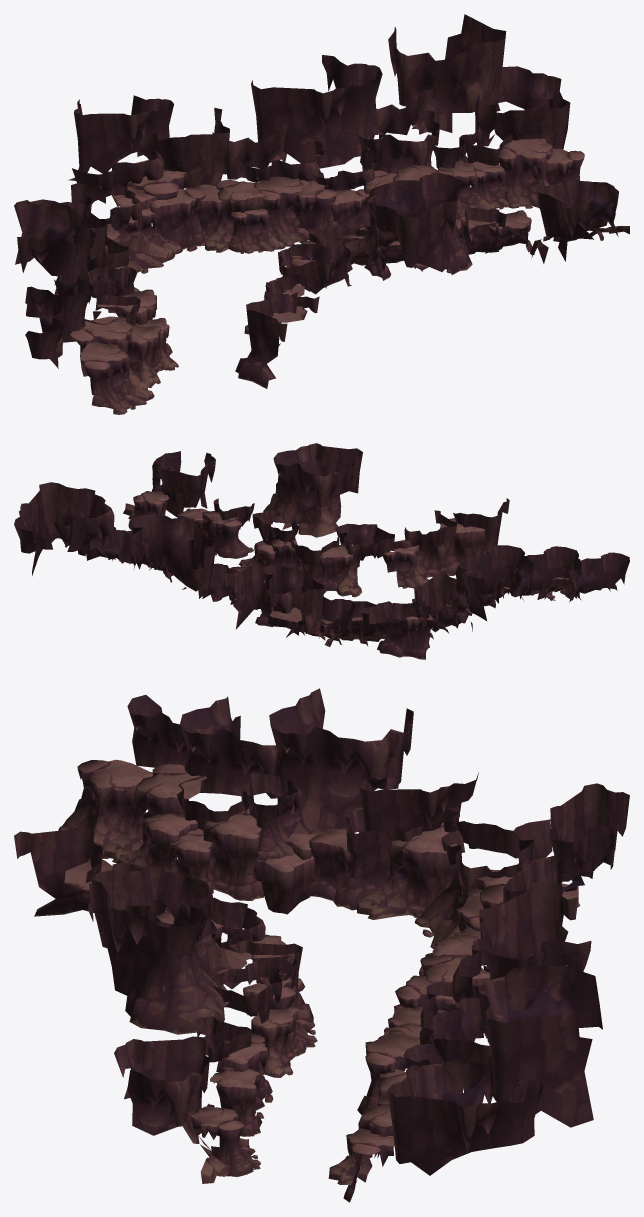
Rendered from area7_shiqiang_02.FBX.
The picture shows the model from 3 angles, top to bottom: view 1: azimuth 30°, elevation 25°; view 2: azimuth 150°, elevation 25°; view 3: azimuth 270°, elevation 25°; orthographic projection. The views are drawn at different scales.
Parts seen in each view (by area): view 1: area7_shiqiang_02; view 2: area7_shiqiang_02; view 3: area7_shiqiang_02.
Boxes of the visible parts, left/top/right/bottom form: area7_shiqiang_02: left=14, top=14, right=629, bottom=414; area7_shiqiang_02: left=14, top=443, right=629, bottom=659; area7_shiqiang_02: left=14, top=688, right=629, bottom=1202.
Bounding box in the file's own units: 13978 × 2729 × 8734.
